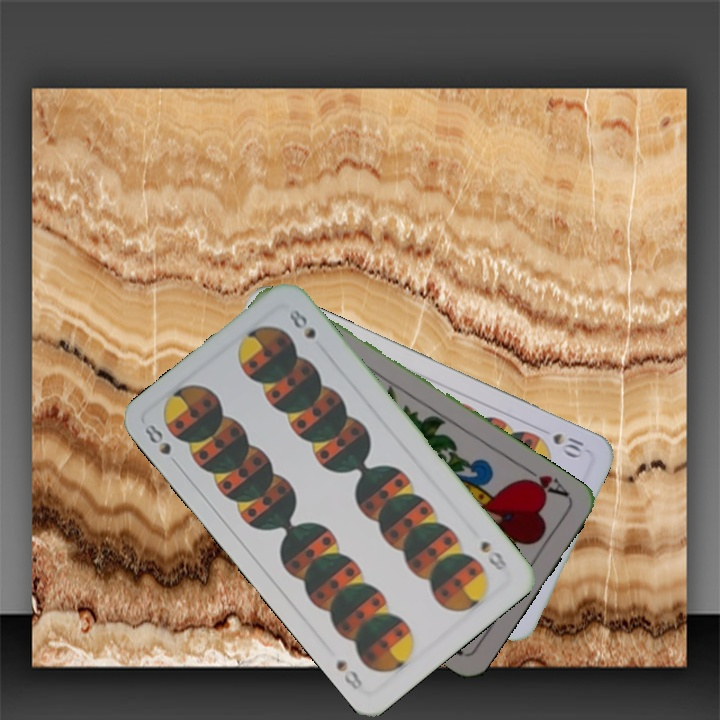HA: (517, 462, 572, 500)
S10: (548, 429, 587, 460)
S8: (137, 419, 183, 471), (476, 536, 511, 573)
